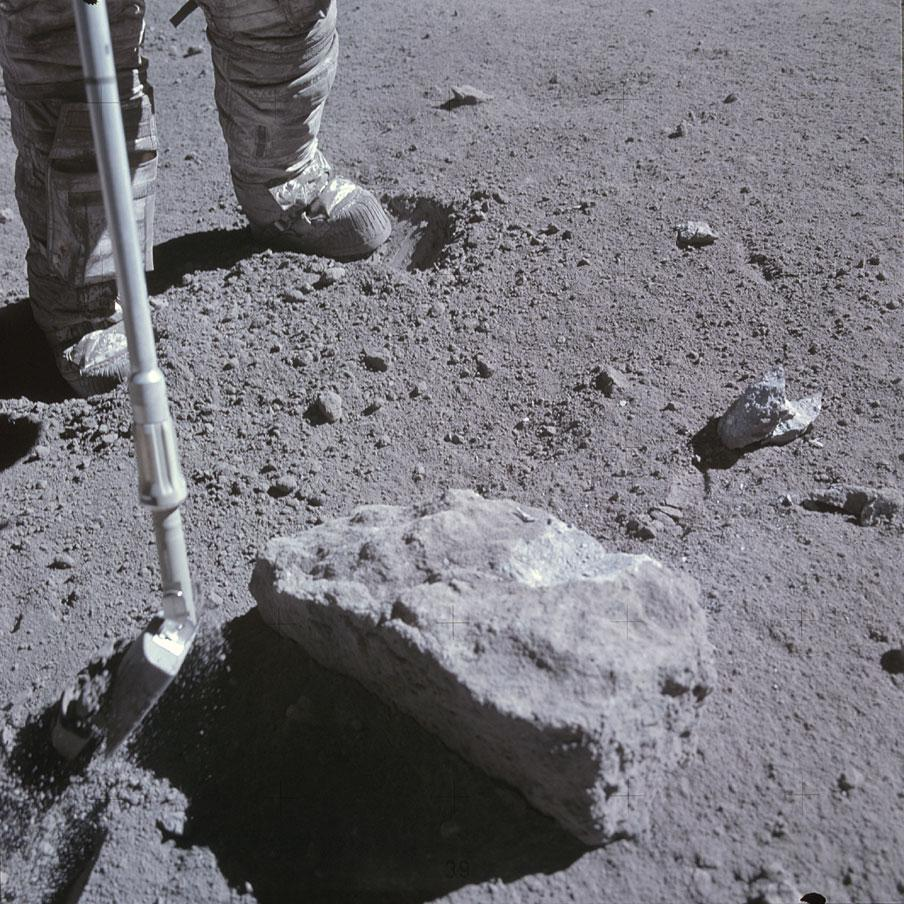rock: (251, 491, 715, 846)
